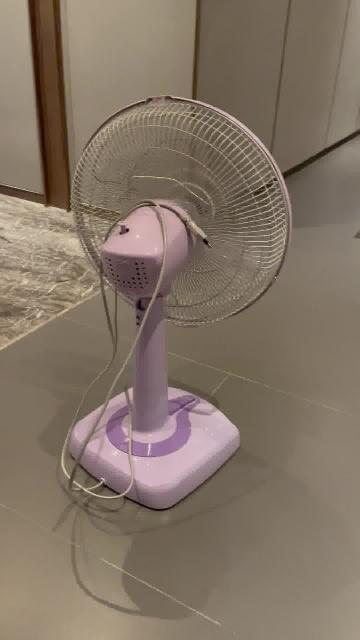Fan: (69, 96, 292, 512)
